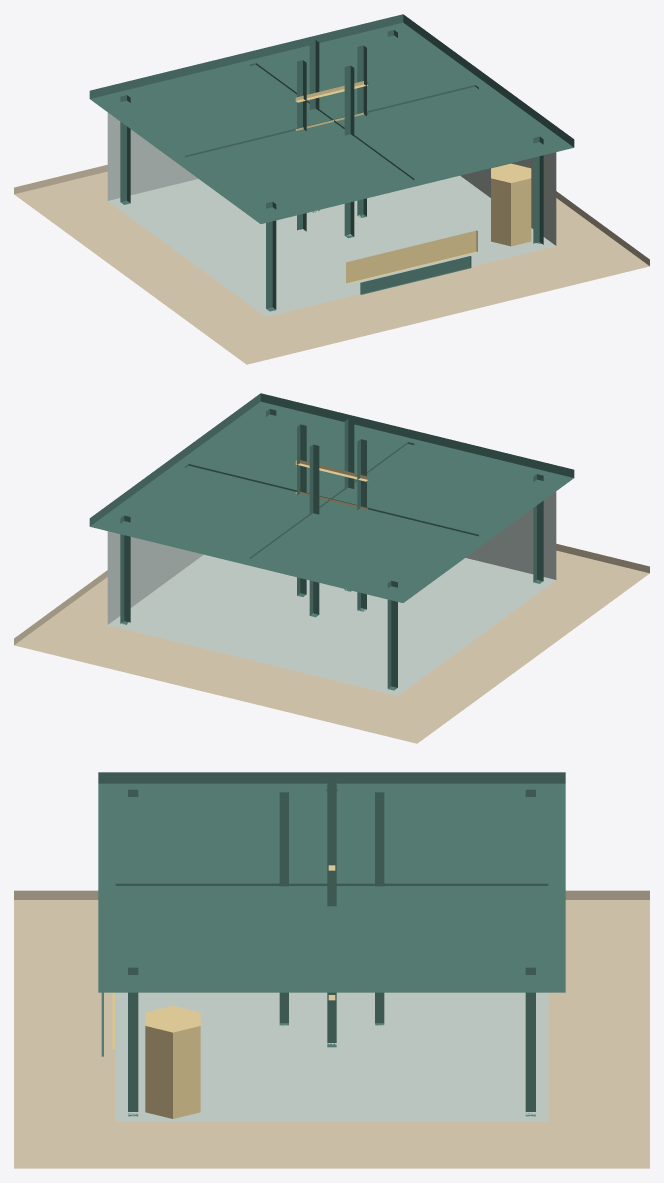
File: gas_well.glb
The picture shows the model from 3 angles, top to bottom: view 1: azimuth 30°, elevation 25°; view 2: azimuth 150°, elevation 25°; view 3: azimuth 270°, elevation 25°; orthographic projection. The views are drawn at different scales.
Visible parts, largest first — view 1: Roof, Foundation, Walls, Details, Frame; view 2: Roof, Walls, Foundation, Frame, Details; view 3: Roof, Foundation, Walls, Details, Frame.
Part boxes in pixels (bbox=[...]): Roof: bbox=[89, 14, 574, 223]; Foundation: bbox=[14, 164, 649, 364]; Walls: bbox=[107, 112, 556, 316]; Details: bbox=[295, 40, 531, 294]; Frame: bbox=[120, 30, 543, 311]; Roof: bbox=[89, 393, 574, 602]; Walls: bbox=[107, 491, 556, 695]; Foundation: bbox=[14, 543, 649, 743]; Frame: bbox=[120, 409, 543, 690]; Details: bbox=[295, 419, 368, 617]; Roof: bbox=[98, 772, 565, 992]; Foundation: bbox=[14, 890, 649, 1168]; Walls: bbox=[115, 992, 548, 1121]; Details: bbox=[101, 772, 384, 1118]; Frame: bbox=[115, 789, 548, 1116].
Size of the model in its own units: 40 by 16.65 by 40.
